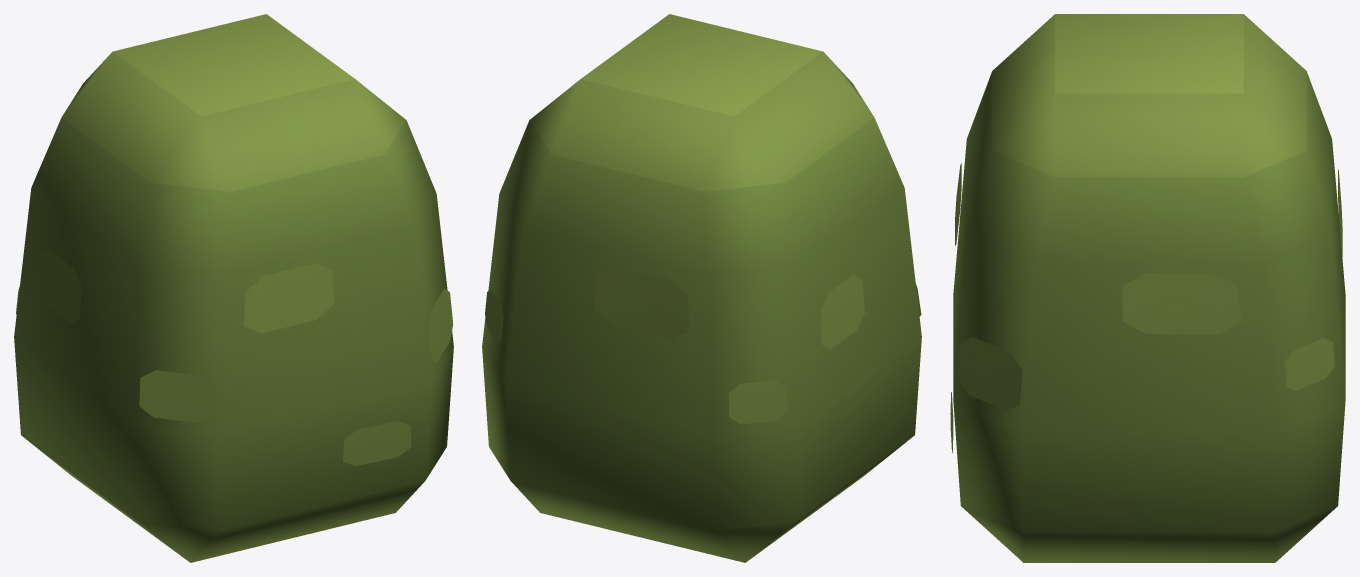
The model's file is bush_medium.fbx.
The picture shows the model from 3 angles, left to right: view 1: azimuth 30°, elevation 25°; view 2: azimuth 150°, elevation 25°; view 3: azimuth 270°, elevation 25°; orthographic projection. The views are drawn at different scales.
Parts seen in each view (by area): view 1: bush_medium; view 2: bush_medium; view 3: bush_medium.
Boxes of the visible parts, x1,y1,x2,y2 form: bush_medium: (14,14,453,562); bush_medium: (482,14,921,562); bush_medium: (950,14,1345,562).
Bounding box in the file's own units: 125 × 160 × 126.
